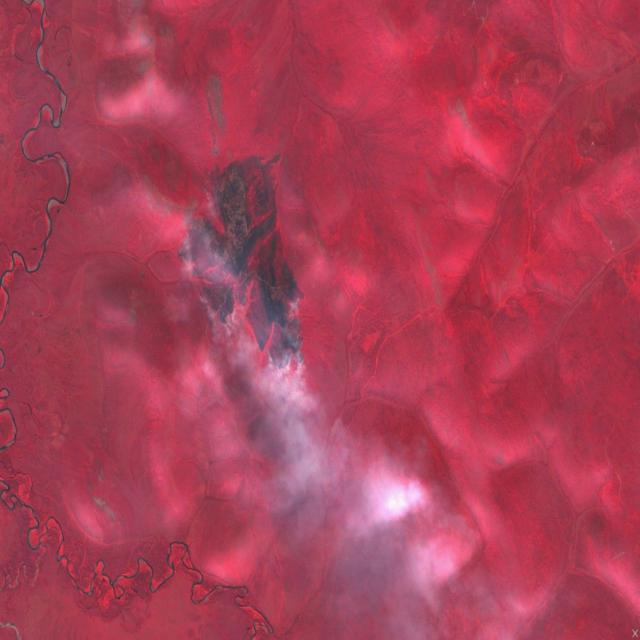fire: (176, 154, 311, 387)
